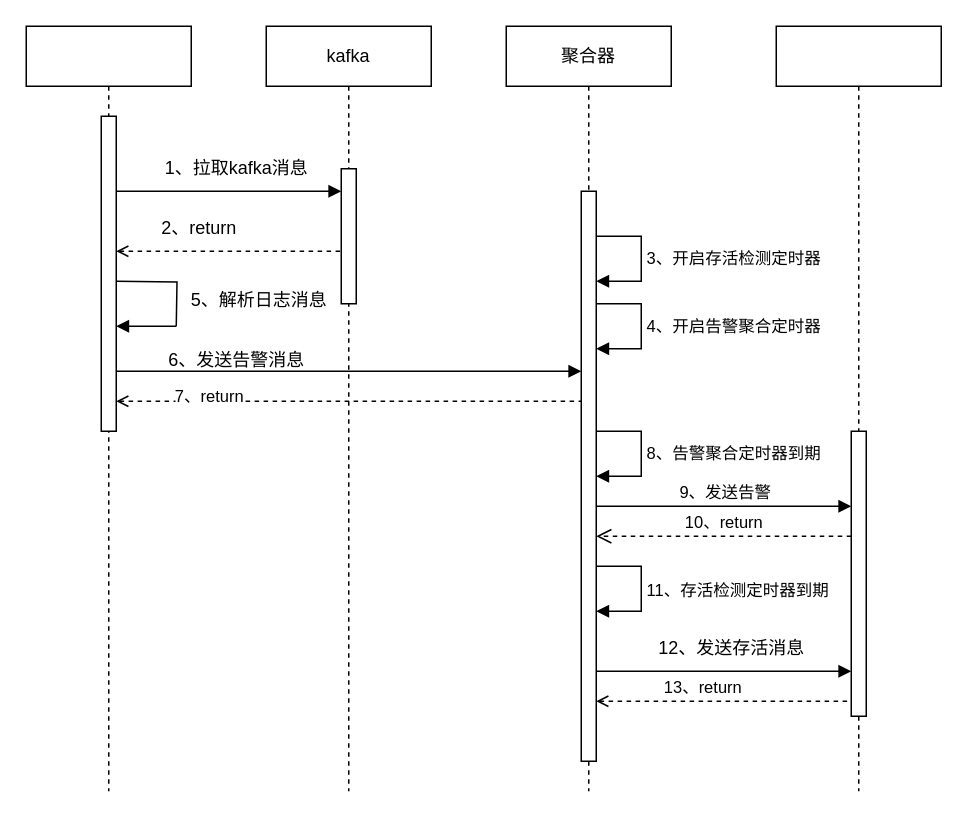
This 968x818 diagram has some shape labels left out. The box of each missing label's shape, as (x1, y1, x2, y2) in pixels:
接收器: (25, 25, 191, 791)
飞书: (775, 25, 941, 791)
